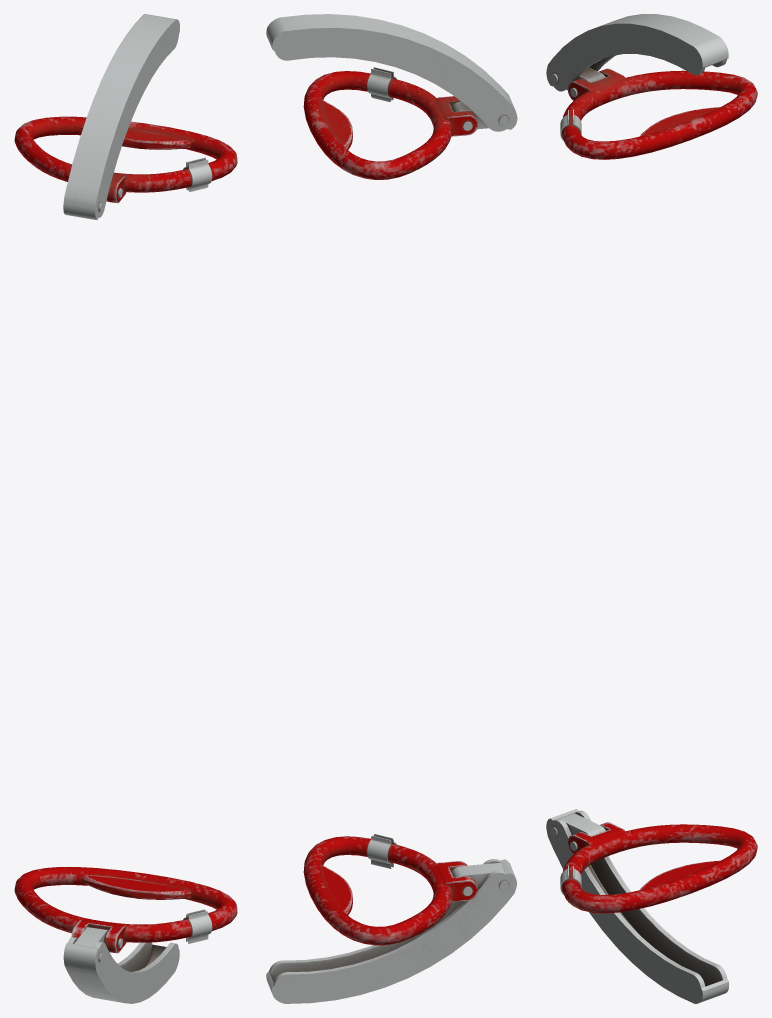
Rendered from MiG-15bis-Gearhandles.gltf.
3 views of the same model, side by side, from view 1: azimuth 30°, elevation 25°; view 2: azimuth 150°, elevation 25°; view 3: azimuth 270°, elevation 25° (orthographic). The views are drawn at different scales.
Parts seen in each view (by area): view 1: EG_RBase, EG_LHandle, EG_RHandle, EG_LBase, EG_LHHUp, EG_RHHUp; view 2: EG_RBase, EG_LBase, EG_LHandle, EG_RHandle, EG_LConnector, EG_RHHDown, EG_LHHDown; view 3: EG_LHandle, EG_RHandle, EG_LBase, EG_RBase, EG_LConnector.
Part boxes in pixels (x1,y1,x2,y2): EG_RBase: [63, 14, 179, 219]; EG_LHandle: [14, 867, 237, 953]; EG_RHandle: [14, 116, 237, 203]; EG_LBase: [63, 937, 179, 1003]; EG_LHHUp: [188, 911, 212, 943]; EG_RHHUp: [188, 159, 212, 191]; EG_RBase: [266, 14, 517, 131]; EG_LBase: [266, 859, 517, 1003]; EG_LHandle: [303, 836, 478, 945]; EG_RHandle: [303, 71, 478, 179]; EG_LConnector: [451, 862, 504, 886]; EG_RHHDown: [367, 68, 391, 101]; EG_LHHDown: [367, 836, 391, 868]; EG_LHandle: [562, 822, 757, 913]; EG_RHandle: [561, 68, 757, 159]; EG_LBase: [546, 809, 728, 1003]; EG_RBase: [546, 14, 728, 91]; EG_LConnector: [559, 813, 605, 836].
Size of the model in its own units: 0.1507 by 0.7459 by 0.1491.
1 material, 1 textured.
